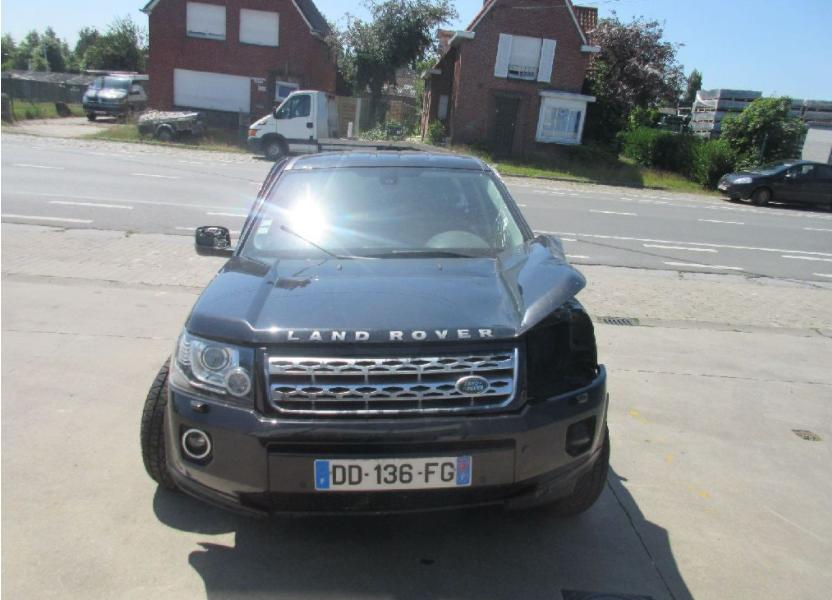Front-bumper: (164, 369, 608, 519)
Front-wheel: (556, 430, 607, 513), (139, 358, 171, 486)
Grille: (265, 353, 518, 413)
Headlight: (168, 329, 254, 410)
Hood: (187, 235, 588, 344)
License-plate: (315, 457, 470, 490)
Mirror: (198, 228, 234, 252)
Roof: (281, 150, 492, 173)
Windshield: (238, 168, 533, 258)
